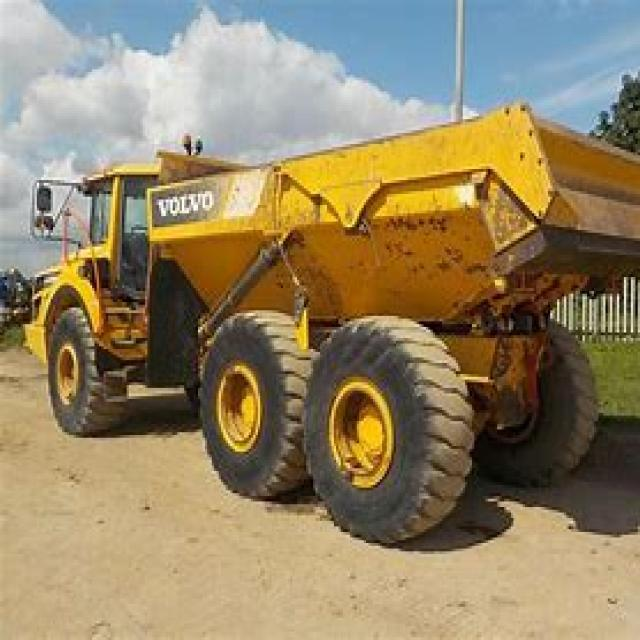dump_truck: (21, 108, 631, 551)
